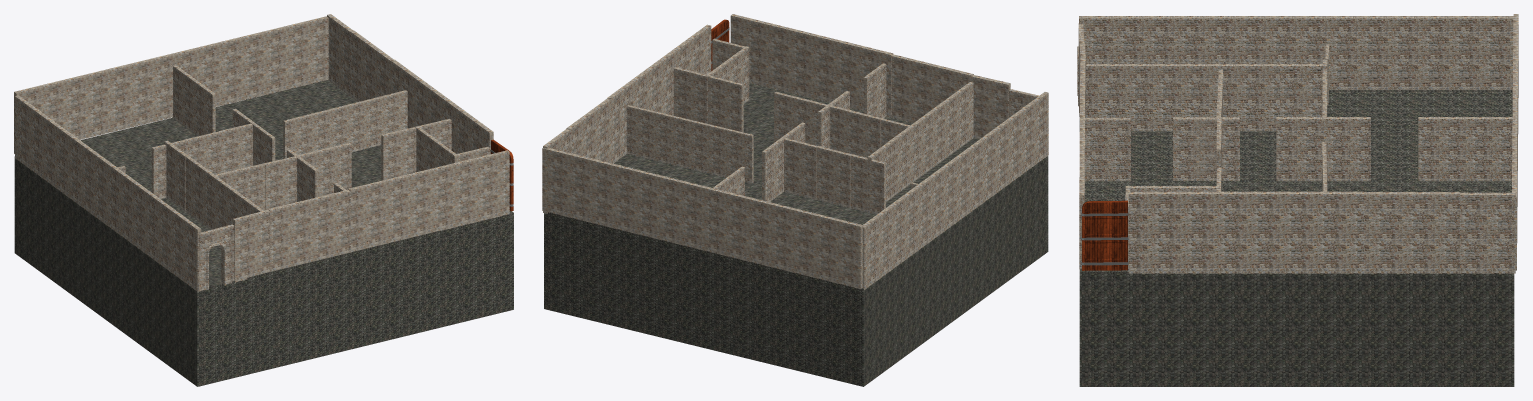
File: map_ben.obj
3 renders of one model, left to right at view 1: azimuth 30°, elevation 25°; view 2: azimuth 150°, elevation 25°; view 3: azimuth 270°, elevation 25°, orthographic. The views are drawn at different scales.
Parts seen in each view (by area): view 1: FloorBox, Box001.001, Box001.008, Box001.005, Box001.006, Box001.010, Box001.002, Box001.011, Box001.003, Box001.007, Box001.026_Box001.037, Box001 (+16 smaller); view 2: FloorBox, Box001.001, Box001.008, Box001.005, Box001.010, Box001.011, Box001.002, Box001.006, Box001.003, Box001.007, Box001.019_Box001.026, Box001.020_Box001.027 (+17 smaller); view 3: FloorBox, Box001.008, Box001.002, Box001.011, Box001.003, Box001.026_Box001.037, Box001.016_Box001.024, Box001.004, DoorLeft, Box001.015, Box001.024_Box001.031, Box001.018_Box001.025 (+4 smaller).
Part boxes in pixels (x1=…): FloorBox: x1=14, y1=80, x2=513, y2=386; Box001.001: x1=14, y1=16, x2=328, y2=153; Box001.008: x1=15, y1=95, x2=201, y2=291; Box001.005: x1=348, y1=150, x2=509, y2=252; Box001.006: x1=268, y1=190, x2=350, y2=271; Box001.010: x1=283, y1=90, x2=407, y2=158; Box001.002: x1=390, y1=59, x2=493, y2=154; Box001.011: x1=185, y1=155, x2=263, y2=229; Box001.003: x1=350, y1=30, x2=399, y2=101; Box001.007: x1=233, y1=210, x2=270, y2=282; Box001.026_Box001.037: x1=172, y1=65, x2=215, y2=136; Box001: x1=198, y1=224, x2=234, y2=291; FloorBox: x1=544, y1=83, x2=1048, y2=386; Box001.001: x1=542, y1=147, x2=862, y2=288; Box001.008: x1=862, y1=92, x2=1048, y2=289; Box001.005: x1=730, y1=14, x2=893, y2=117; Box001.010: x1=626, y1=105, x2=753, y2=183; Box001.011: x1=888, y1=82, x2=973, y2=197; Box001.002: x1=607, y1=24, x2=711, y2=158; Box001.006: x1=891, y1=54, x2=973, y2=122; Box001.003: x1=566, y1=93, x2=619, y2=163; Box001.007: x1=968, y1=75, x2=1010, y2=139; Box001.019_Box001.026: x1=816, y1=146, x2=851, y2=207; Box001.020_Box001.027: x1=784, y1=138, x2=817, y2=199; FloorBox: x1=1079, y1=90, x2=1514, y2=386; Box001.008: x1=1079, y1=16, x2=1513, y2=89; Box001.002: x1=1128, y1=191, x2=1363, y2=273; Box001.011: x1=1086, y1=64, x2=1279, y2=131; Box001.003: x1=1364, y1=192, x2=1459, y2=273; Box001.026_Box001.037: x1=1418, y1=117, x2=1512, y2=181; Box001.016_Box001.024: x1=1276, y1=117, x2=1370, y2=181; Box001.004: x1=1460, y1=192, x2=1515, y2=273; DoorLeft: x1=1080, y1=200, x2=1128, y2=270; Box001.015: x1=1085, y1=118, x2=1130, y2=181; Box001.024_Box001.031: x1=1173, y1=117, x2=1219, y2=180; Box001.018_Box001.025: x1=1280, y1=64, x2=1327, y2=116.
Bounding box in the file's own units: 514 × 252 × 520.
